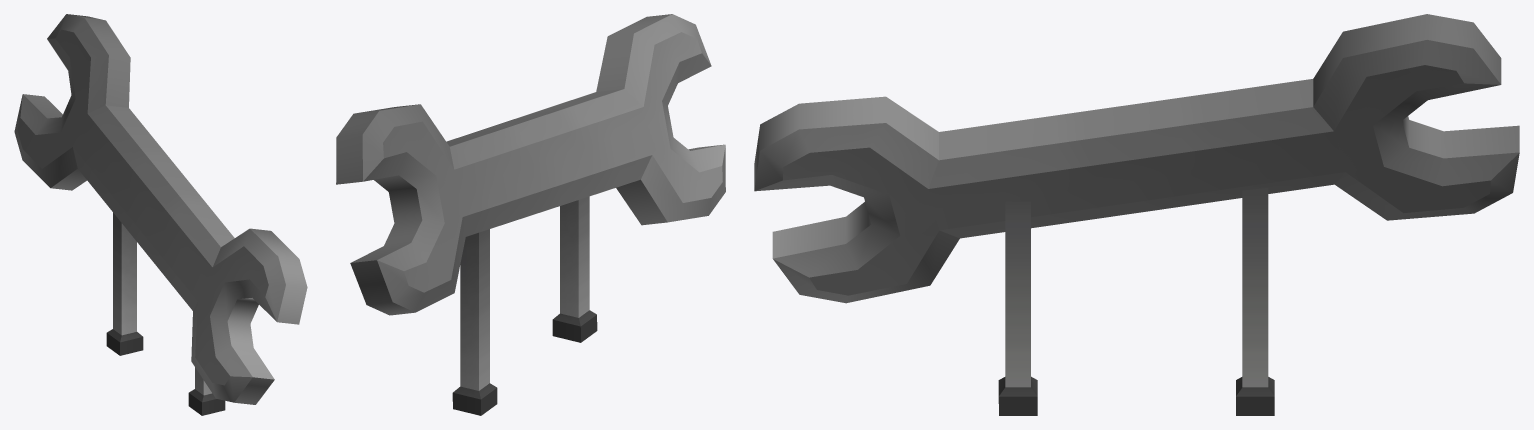
Rendered from FlatWrenchSign_1_A.fbx.
3 renders of one model, left to right at view 1: azimuth 30°, elevation 25°; view 2: azimuth 150°, elevation 25°; view 3: azimuth 270°, elevation 25°, orthographic. The views are drawn at different scales.
Visible parts, largest first — view 1: FlatWrenchSign_1_A; view 2: FlatWrenchSign_1_A; view 3: FlatWrenchSign_1_A.
Part boxes in pixels (left/top/right/bottom): FlatWrenchSign_1_A: left=14, top=14, right=307, bottom=415; FlatWrenchSign_1_A: left=336, top=14, right=725, bottom=415; FlatWrenchSign_1_A: left=754, top=14, right=1519, bottom=415.
Size of the model in its own units: 85.11 by 237 by 403.
